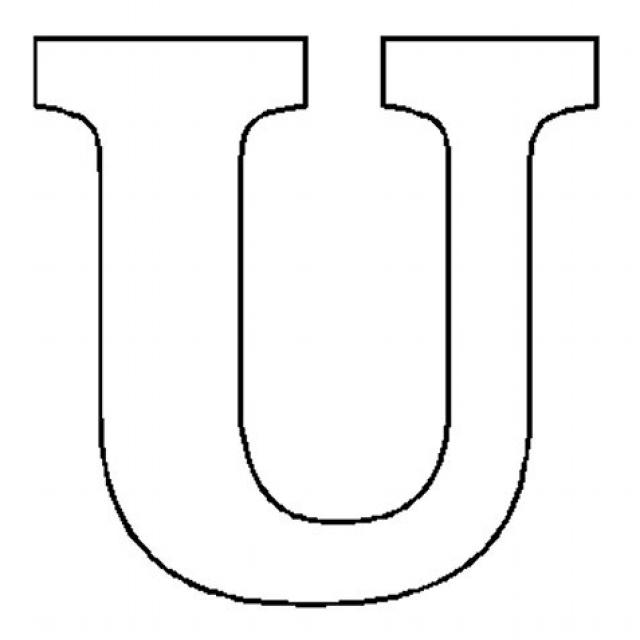U: (16, 6, 609, 622)
